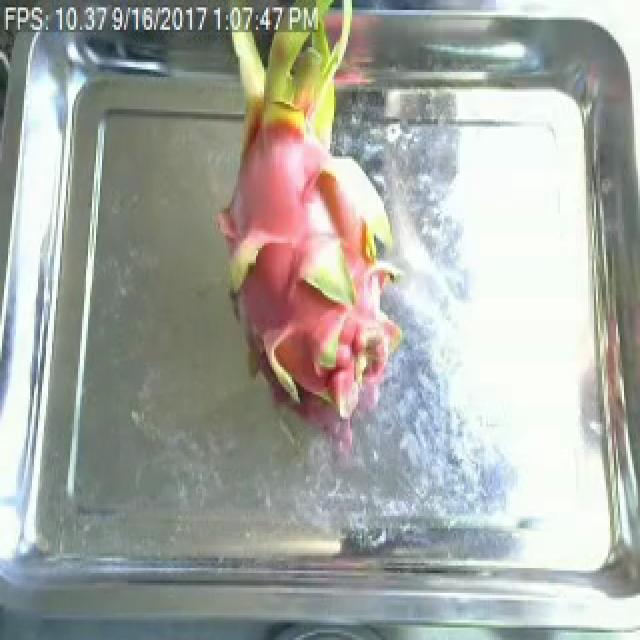fruit: (204, 8, 432, 434)
